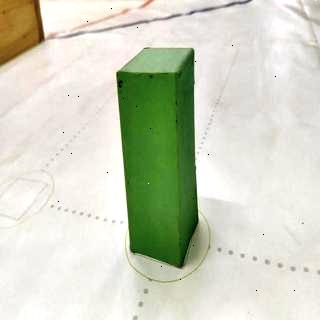greenbox: (115, 44, 202, 270)
